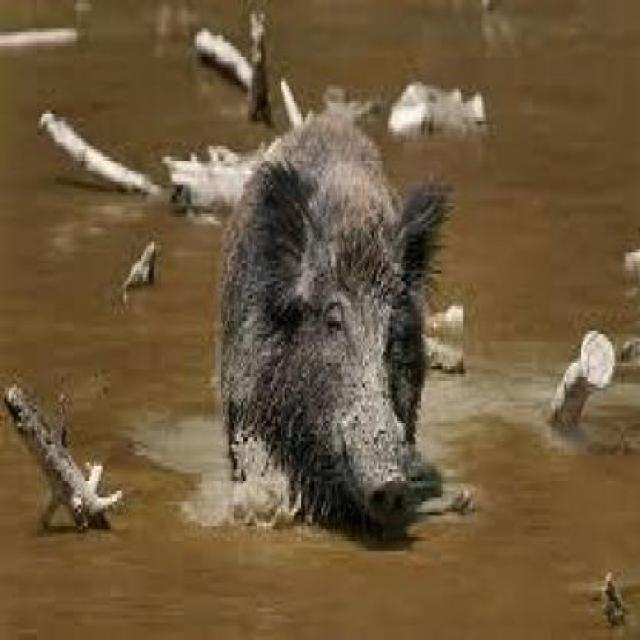Wild Boar: (213, 110, 455, 552)
